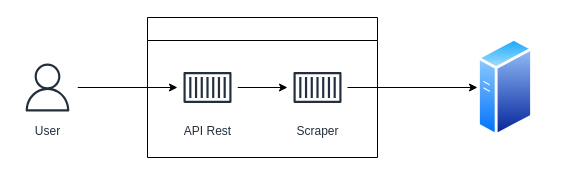
Some shapes in this 585 by 194 pixel diagram are drawn without their labels. The shapes that lost their labels are listed below. From the top down, each one's box as (x1, y1, x2, y2) in pixels, then its label:
(146, 16, 378, 158): Backend Viniculas
(477, 37, 533, 137): Site Embrapa Dados da Vitivinicultura
